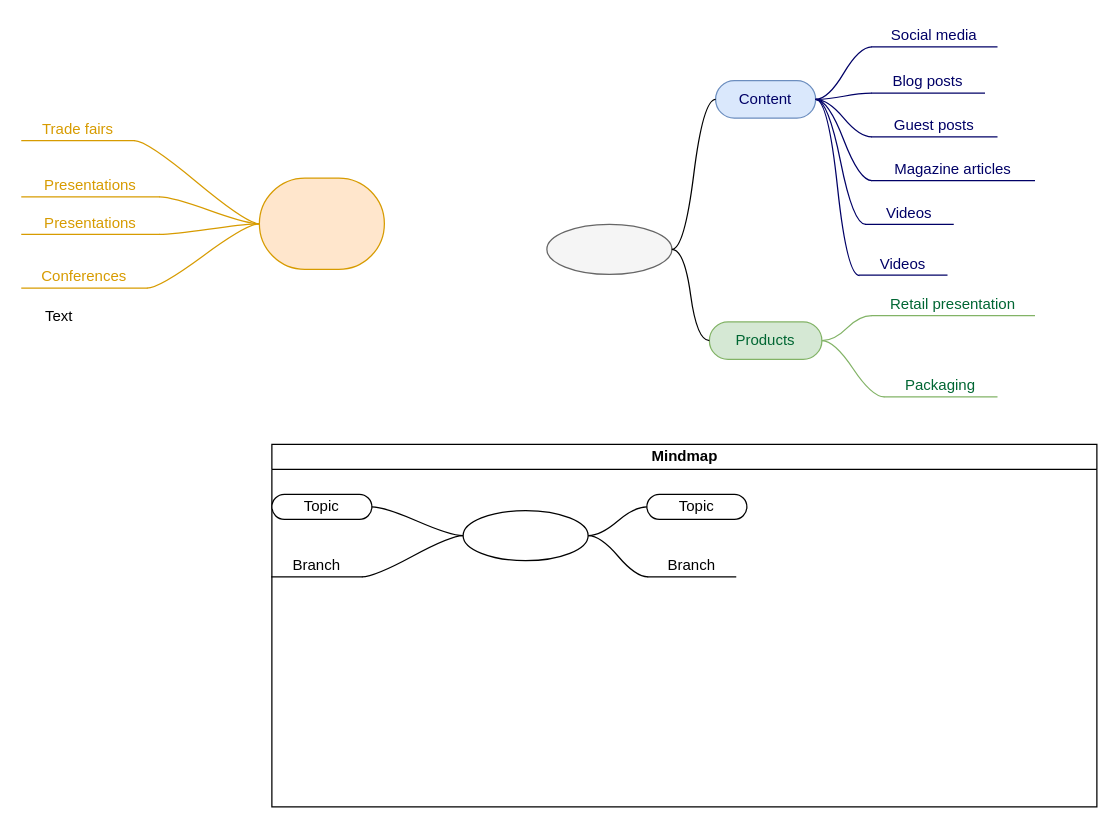
Some shapes in this 1119 by 829 pixel diagram are drawn without their labels. Here are the shapes that lost their labels. From the top down, the centre of each, then its label:
the point at 321,223: Events
the point at 609,248: Marketing
the point at 525,535: Central Idea
